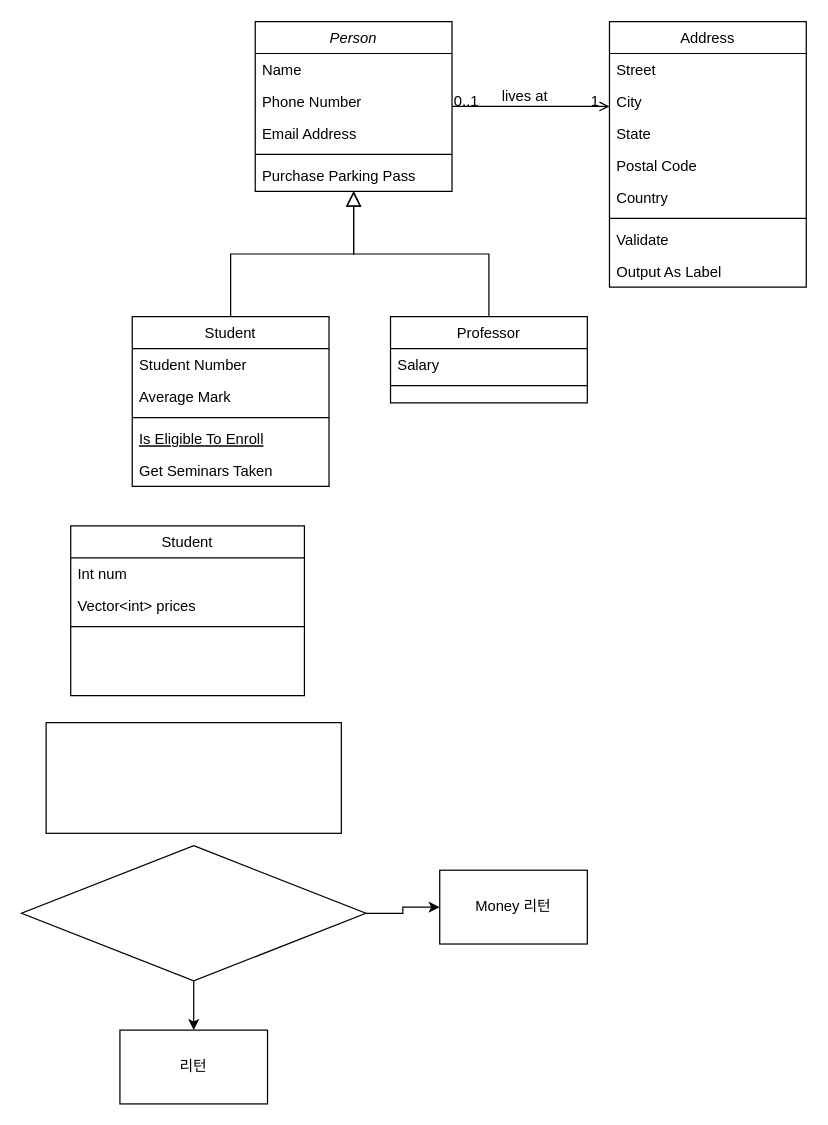
The diagram is 828 pixels wide and 1125 high, and some of its shapes have lost their labels. Each missing label, with the centre of its shape:
If *prices.Begin() + *prices. Begin () + 1 < money 인가?: point 193,912
Sort(Prices.begin(), prices.end()): point 193,777
